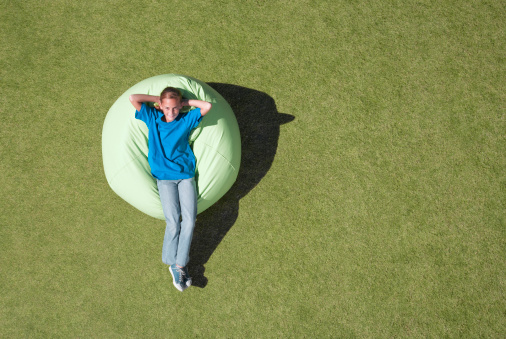deitado: (126, 66, 216, 295)
